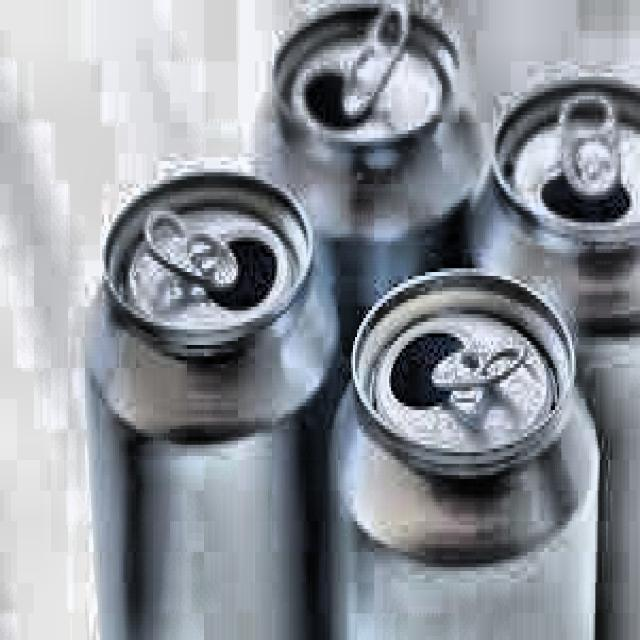can: (76, 153, 351, 640), (322, 255, 605, 640), (456, 49, 640, 640), (253, 0, 490, 324)
